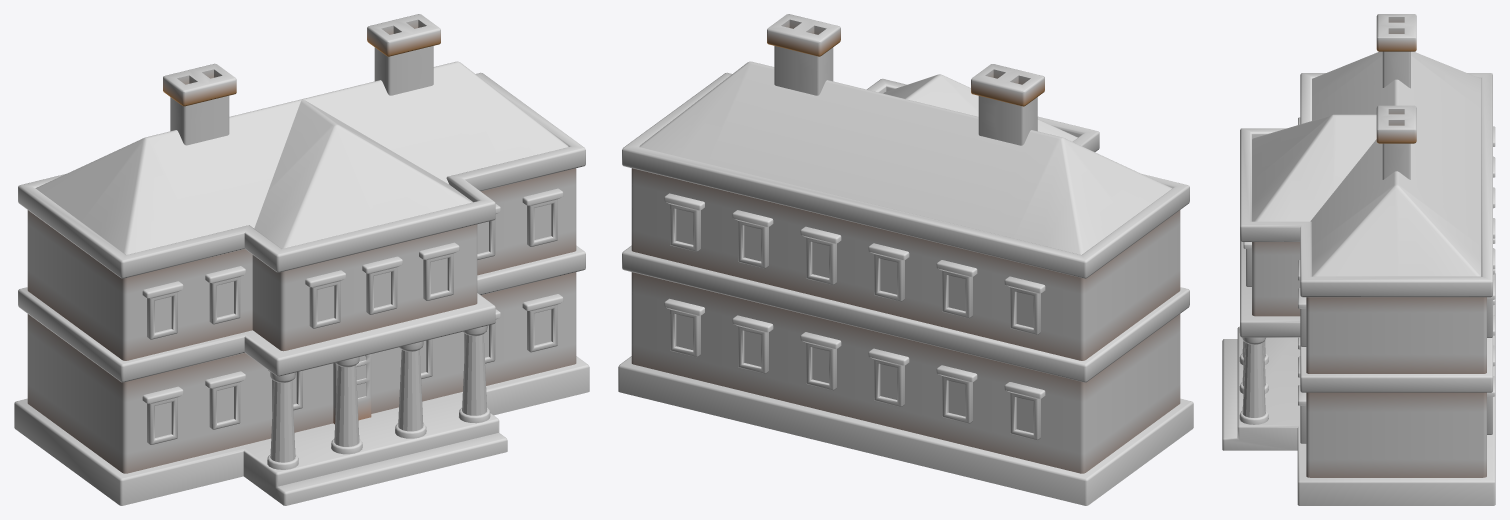
File: NF_Pbl_Bld_Bank.fbx
3 views of the same model, side by side, from view 1: azimuth 30°, elevation 25°; view 2: azimuth 150°, elevation 25°; view 3: azimuth 270°, elevation 25° (orthographic). The views are drawn at different scales.
Parts seen in each view (by area): view 1: Bank; view 2: Bank; view 3: Bank.
Part boxes in pixels (x1,y1,x2,y2): Bank: (14,14,589,505); Bank: (618,14,1193,505); Bank: (1222,14,1495,505).
Size of the model in its own units: 16.56 by 12.05 by 9.06.
